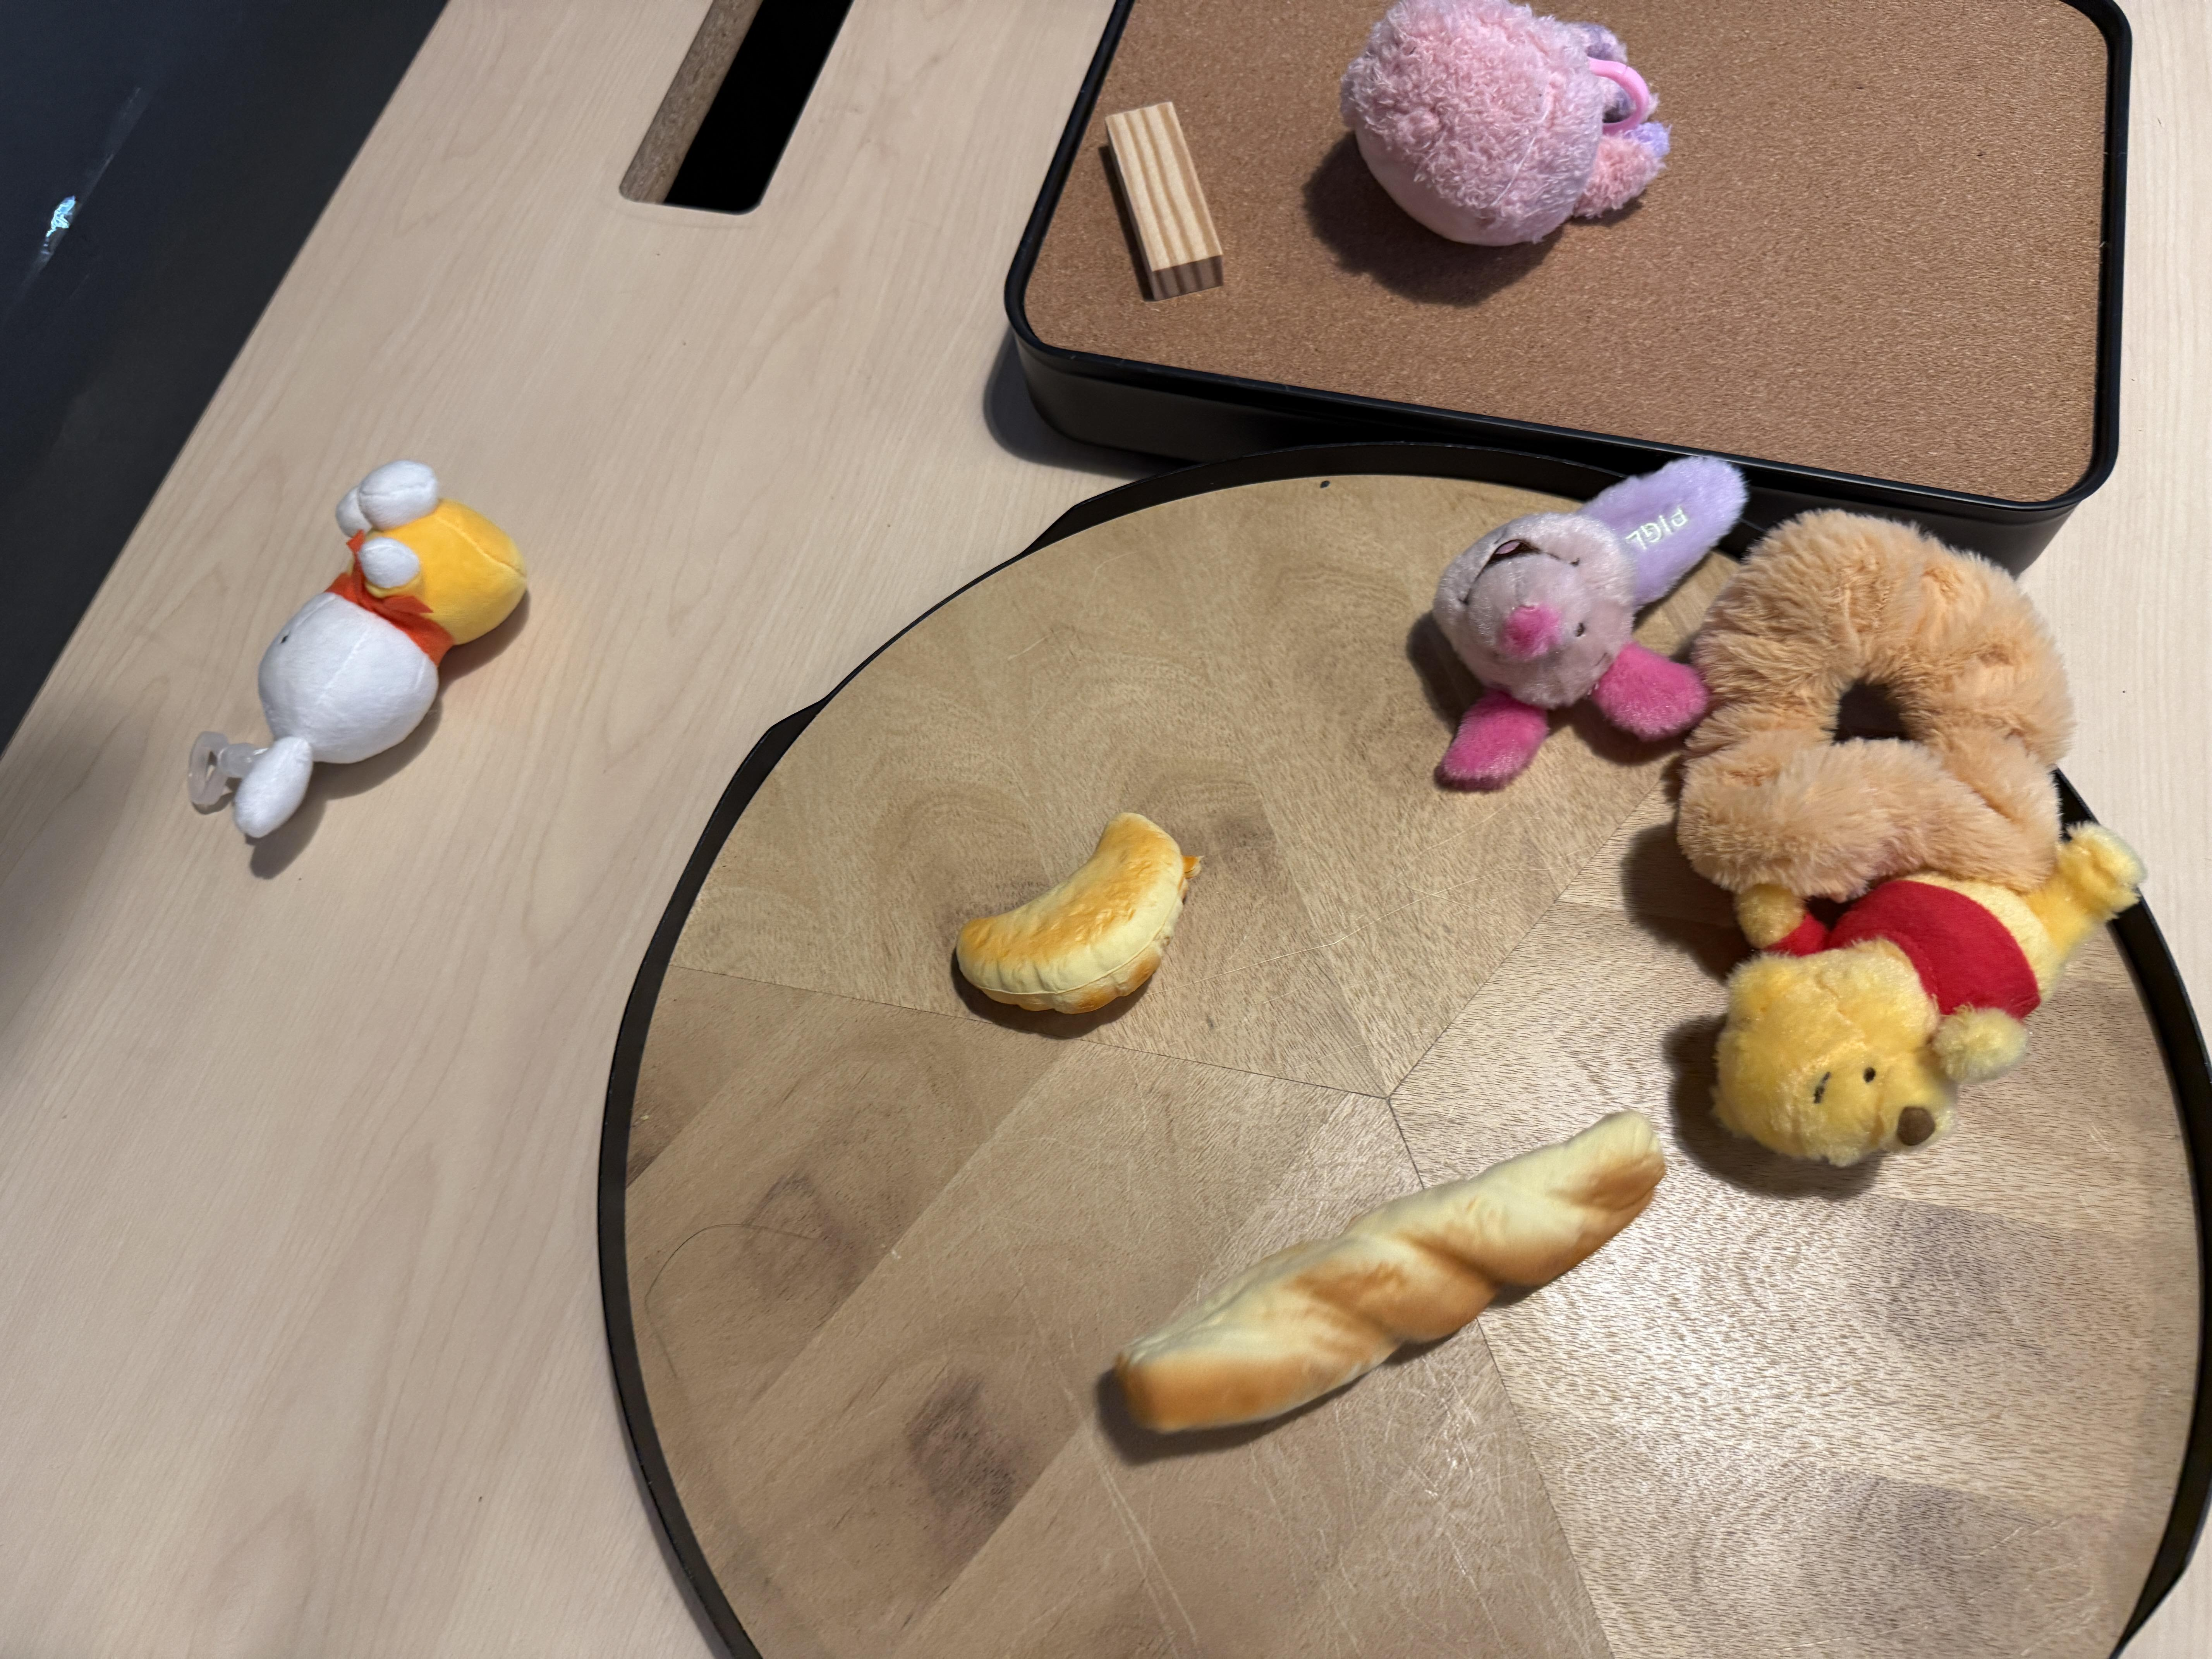block: (1104, 101, 1230, 301)
bread: (1113, 1108, 1672, 1434), (954, 812, 1195, 1014)
doll: (1693, 502, 2146, 1169), (179, 457, 536, 852), (1423, 453, 1749, 791), (1362, 0, 1674, 247)
